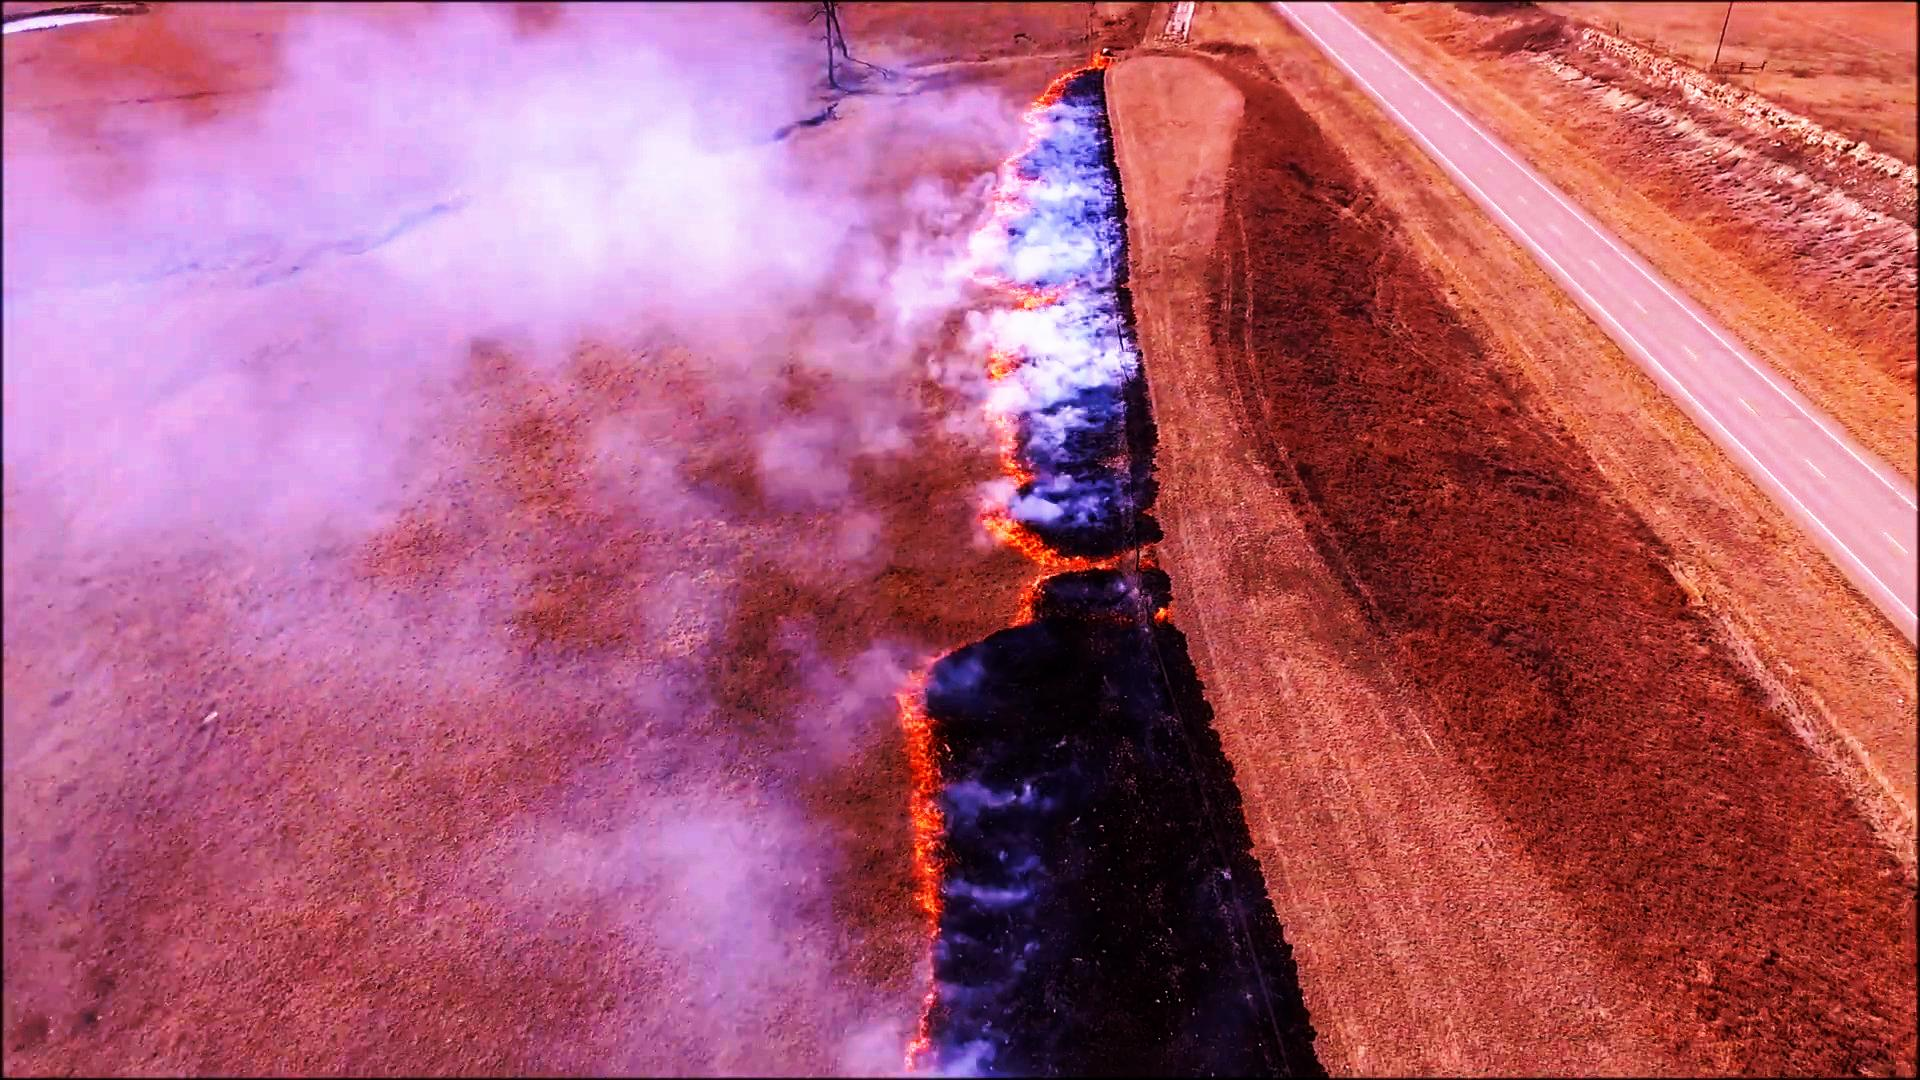fire: (980, 504, 1071, 628)
smoke: (11, 0, 965, 650), (1010, 95, 1155, 530)
